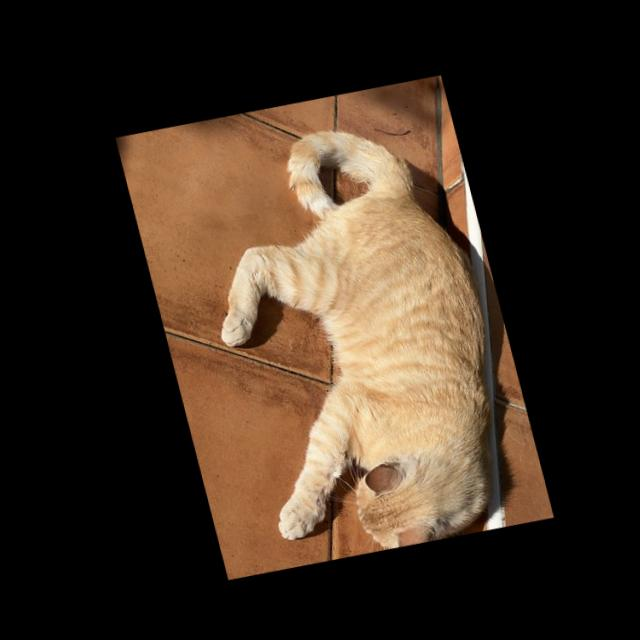animals: (172, 103, 532, 573)
